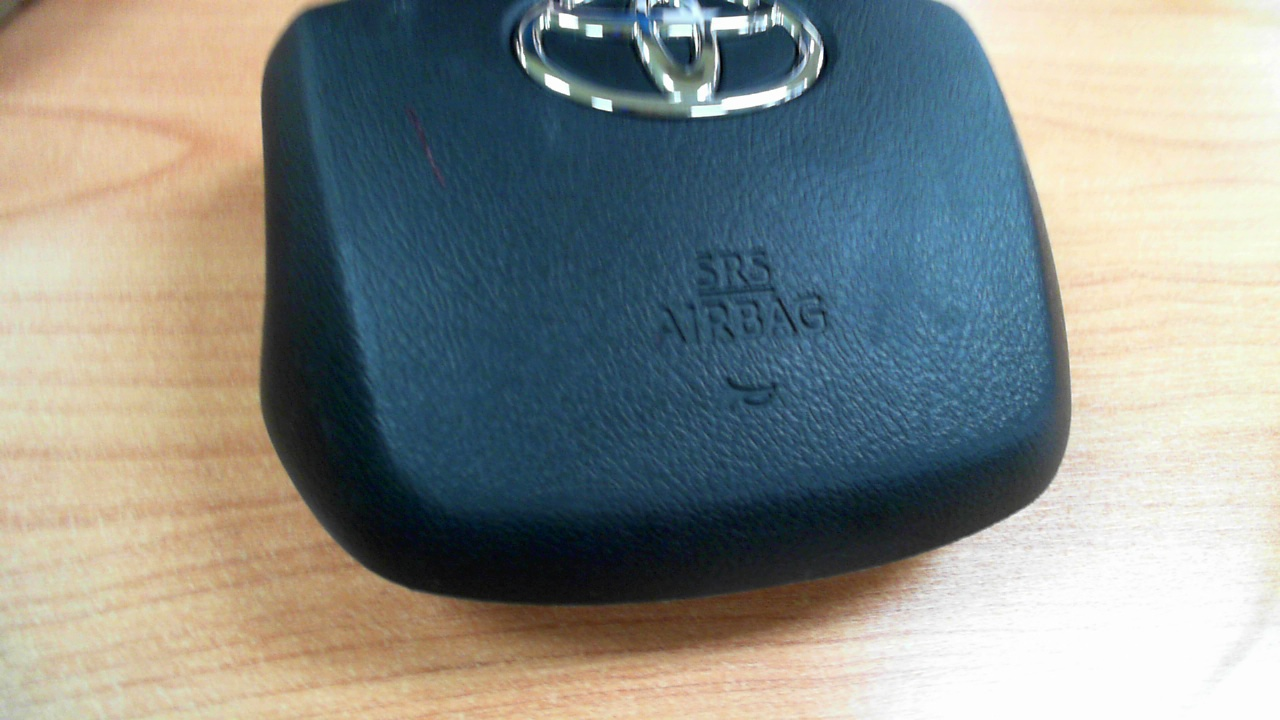Airbag: (258, 0, 1072, 608)
Toyota: (520, 0, 824, 119)
